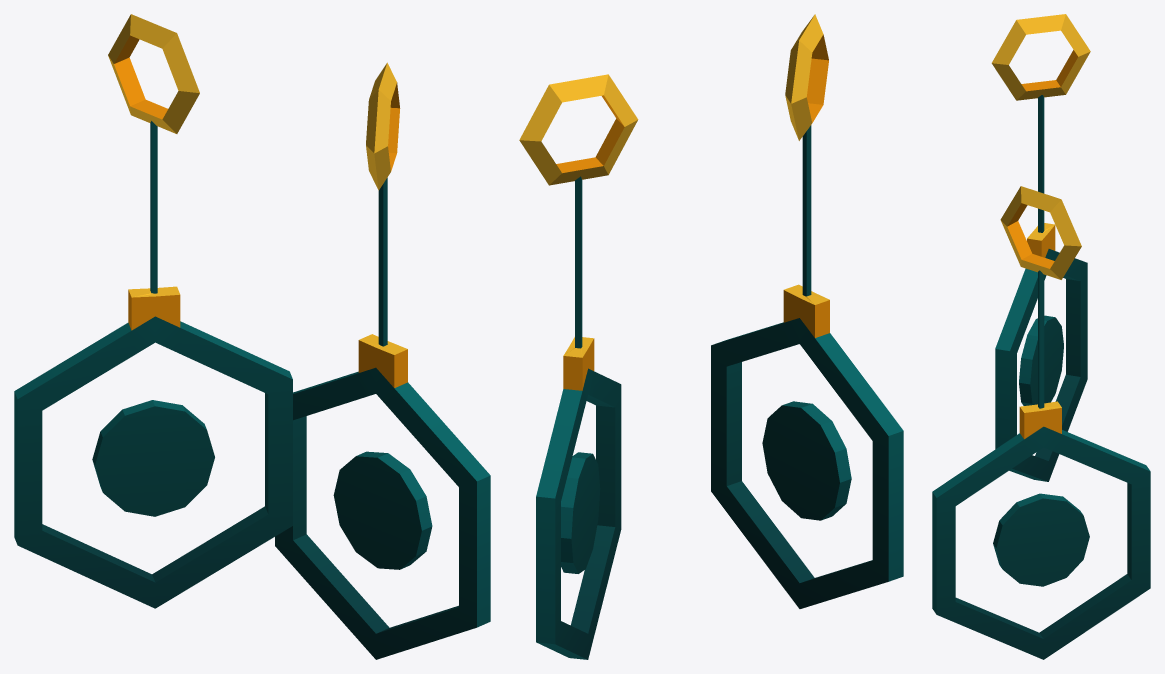
File: F_Earrings_DCL_MANA.glb
3 renders of one model, left to right at view 1: azimuth 30°, elevation 25°; view 2: azimuth 150°, elevation 25°; view 3: azimuth 270°, elevation 25°, orthographic. The views are drawn at different scales.
Parts seen in each view (by area): view 1: F_Earrings_DCL_MANA; view 2: F_Earrings_DCL_MANA; view 3: F_Earrings_DCL_MANA.
Part boxes in pixels (x1,y1,x2,y2): F_Earrings_DCL_MANA: [14, 14, 490, 659]; F_Earrings_DCL_MANA: [519, 14, 903, 659]; F_Earrings_DCL_MANA: [932, 14, 1150, 659].
Size of what is drawn, in the model's own units: 0.4688 by 0.7964 by 0.2865.
1 material, 1 textured.
